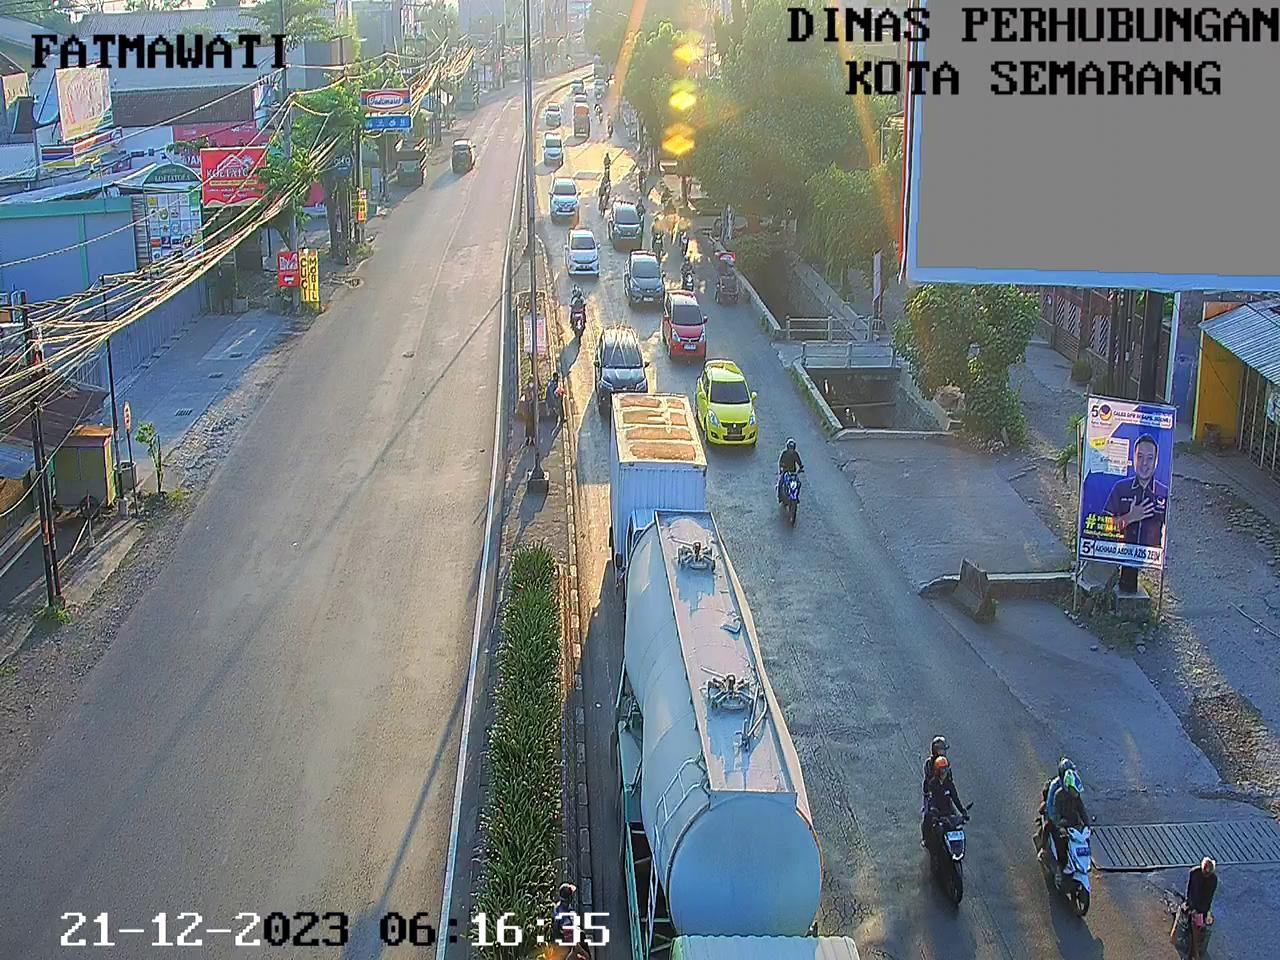car: (692, 358, 758, 452), (595, 325, 652, 416), (657, 287, 706, 364), (619, 246, 668, 314), (562, 228, 603, 284), (609, 195, 644, 253), (549, 176, 582, 225), (542, 129, 568, 168), (545, 99, 562, 129), (572, 87, 588, 102), (593, 79, 606, 96), (570, 78, 583, 88)
motorcycle: (1032, 754, 1094, 924), (916, 734, 971, 913), (776, 432, 806, 526), (569, 283, 588, 346), (651, 216, 668, 266), (676, 216, 694, 254), (681, 258, 695, 294), (634, 195, 648, 228), (597, 183, 611, 215), (635, 162, 647, 195), (664, 198, 676, 228), (660, 184, 672, 212), (603, 152, 615, 174), (605, 114, 617, 136), (604, 169, 613, 196), (596, 103, 604, 123)
truck: (613, 511, 858, 960), (606, 393, 716, 605), (593, 55, 618, 80), (574, 102, 589, 139)
